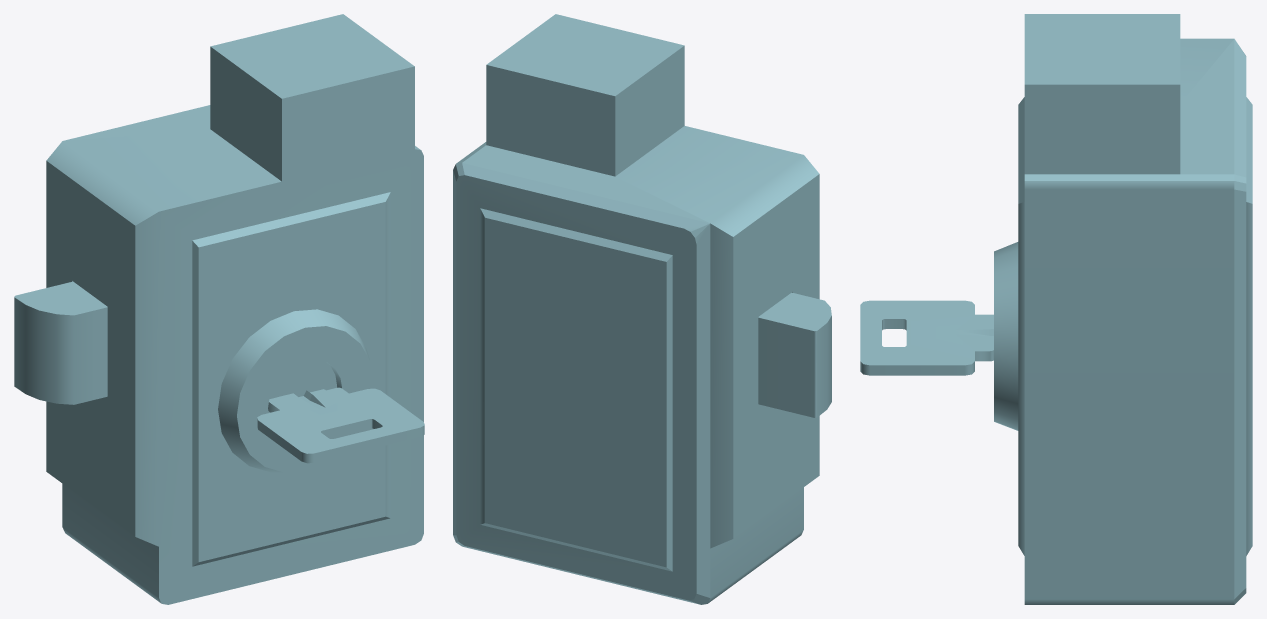
File: Lock.fbx
3 renders of one model, left to right at view 1: azimuth 30°, elevation 25°; view 2: azimuth 150°, elevation 25°; view 3: azimuth 270°, elevation 25°, orthographic. The views are drawn at different scales.
Parts seen in each view (by area): view 1: LockShell, LockHole1, LockHead, Key; view 2: BackShell, LockShell, LockHead; view 3: LockShell, BackShell, Key, LockHole1.
Boxes of the visible parts, x1=… form: LockShell: x1=46, y1=14, x2=423, y2=604; LockHole1: x1=218, y1=309, x2=373, y2=472; LockHead: x1=14, y1=281, x2=107, y2=404; Key: x1=257, y1=387, x2=424, y2=463; BackShell: x1=453, y1=163, x2=710, y2=604; LockShell: x1=456, y1=14, x2=819, y2=603; LockHead: x1=758, y1=292, x2=831, y2=417; LockShell: x1=1018, y1=14, x2=1234, y2=604; BackShell: x1=1234, y1=39, x2=1252, y2=604; Key: x1=860, y1=300, x2=993, y2=375; LockHole1: x1=994, y1=242, x2=1018, y2=430.
Size of the model in its own units: 10.08 by 13.38 by 9.15.
